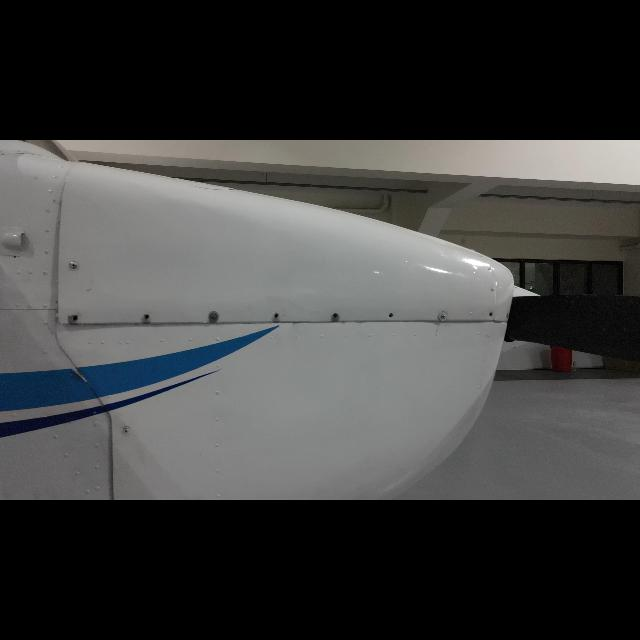Missing Fastener: (72, 314, 80, 322), (143, 313, 151, 321), (272, 312, 280, 320), (388, 313, 396, 319), (486, 312, 494, 318), (332, 312, 338, 320)
